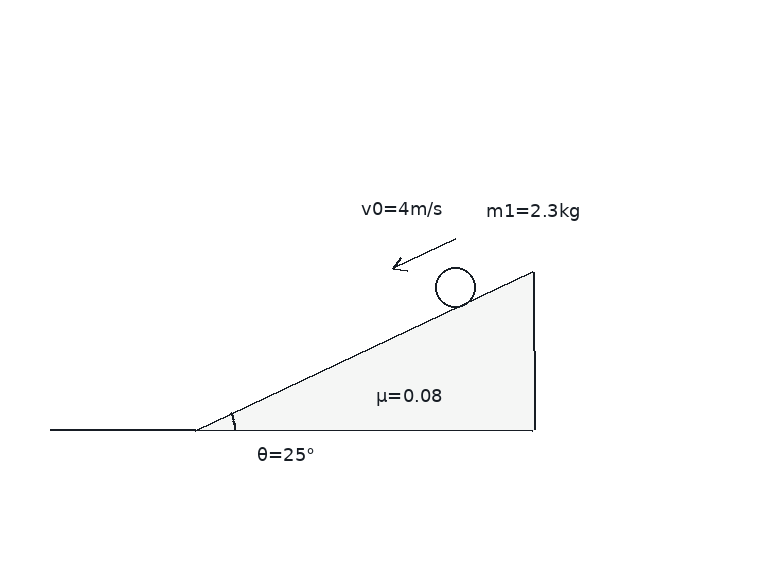ball: (433, 265, 477, 309)
ramp: (193, 270, 535, 432)
